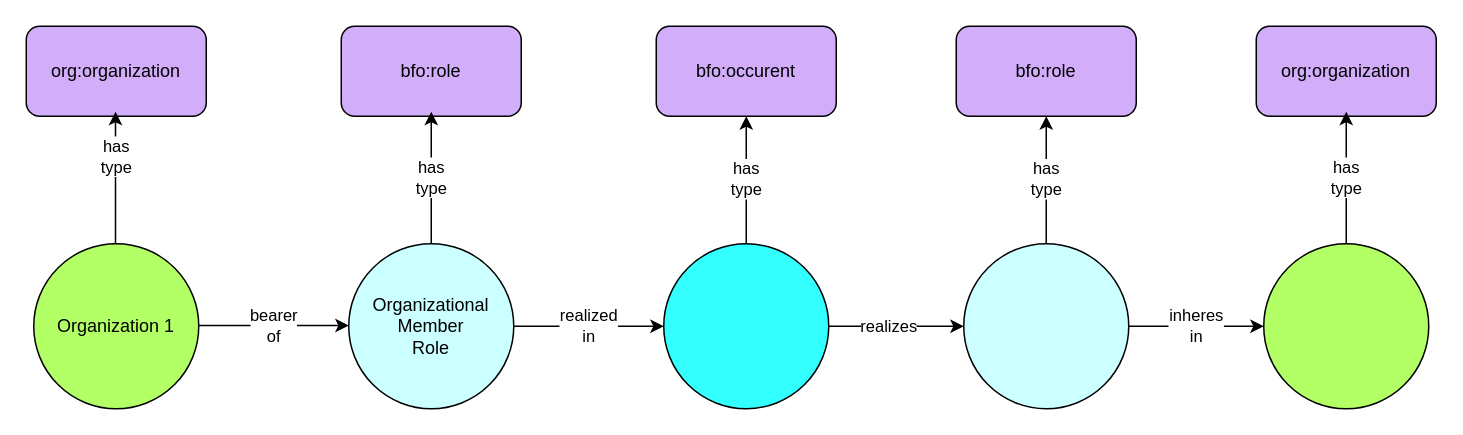
This 1463x435 diagram has some shape labels left out. Here are the shapes that lost their labels. From the top down, the box of each, then its label:
(662, 242, 829, 409): Organizational Membership
(962, 242, 1129, 409): Organizational Member Grantor Role
(1262, 242, 1429, 409): Organization 2
